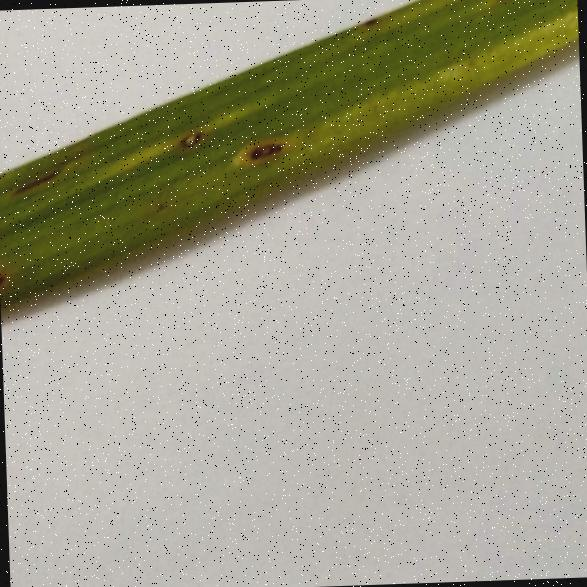Leaf_smut: (224, 129, 299, 166), (163, 120, 208, 147)
